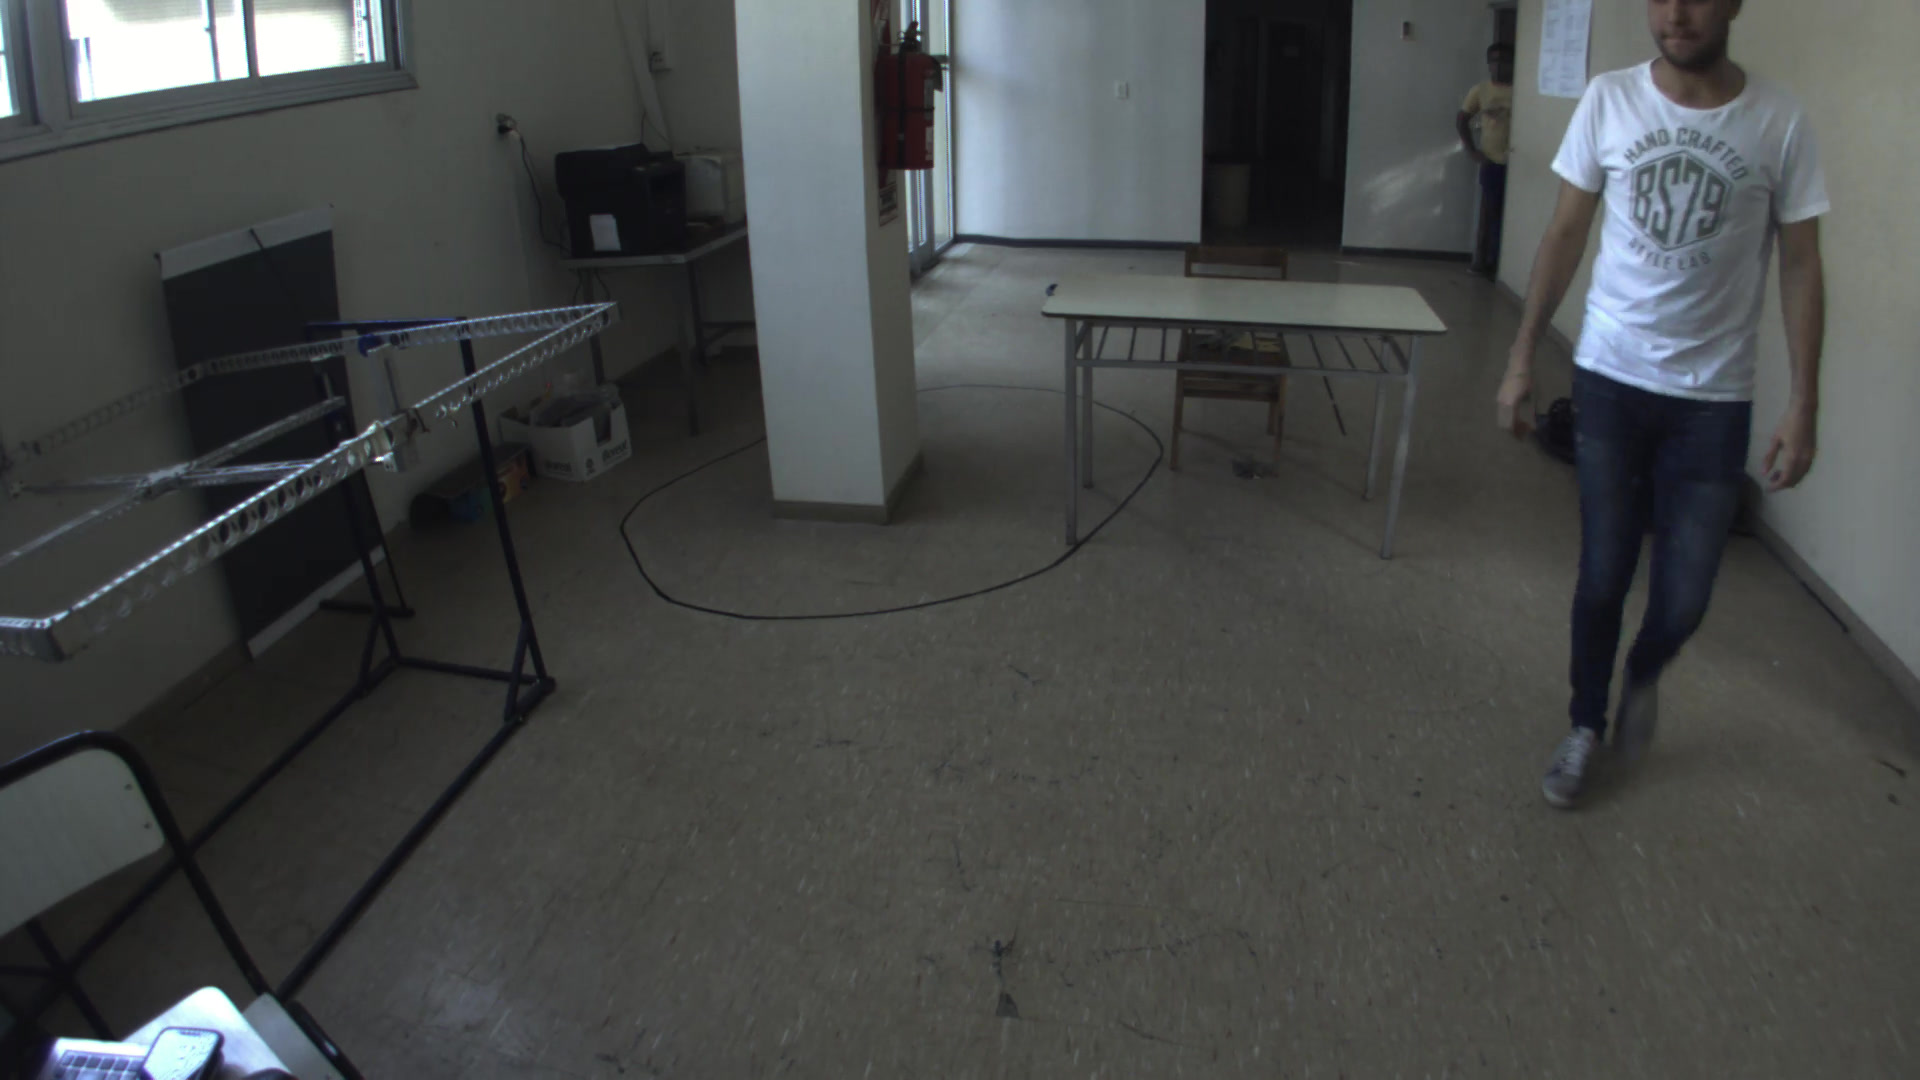hand: (1749, 405, 1820, 496), (1495, 357, 1548, 440)
